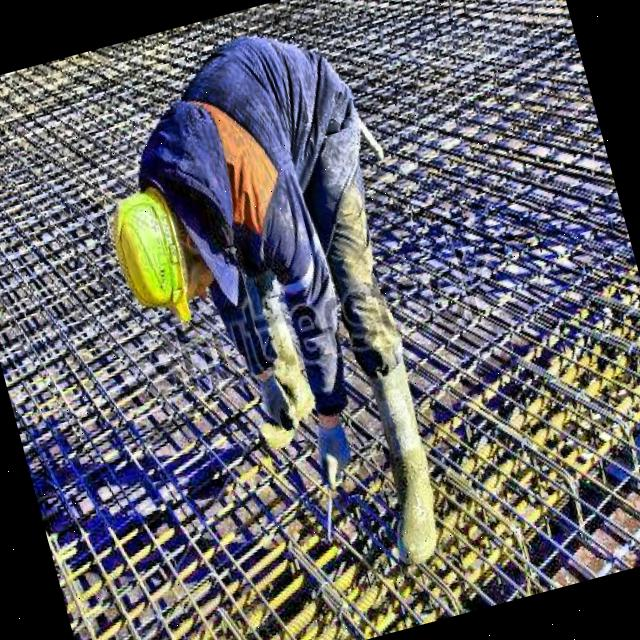helmet: (95, 170, 228, 326)
